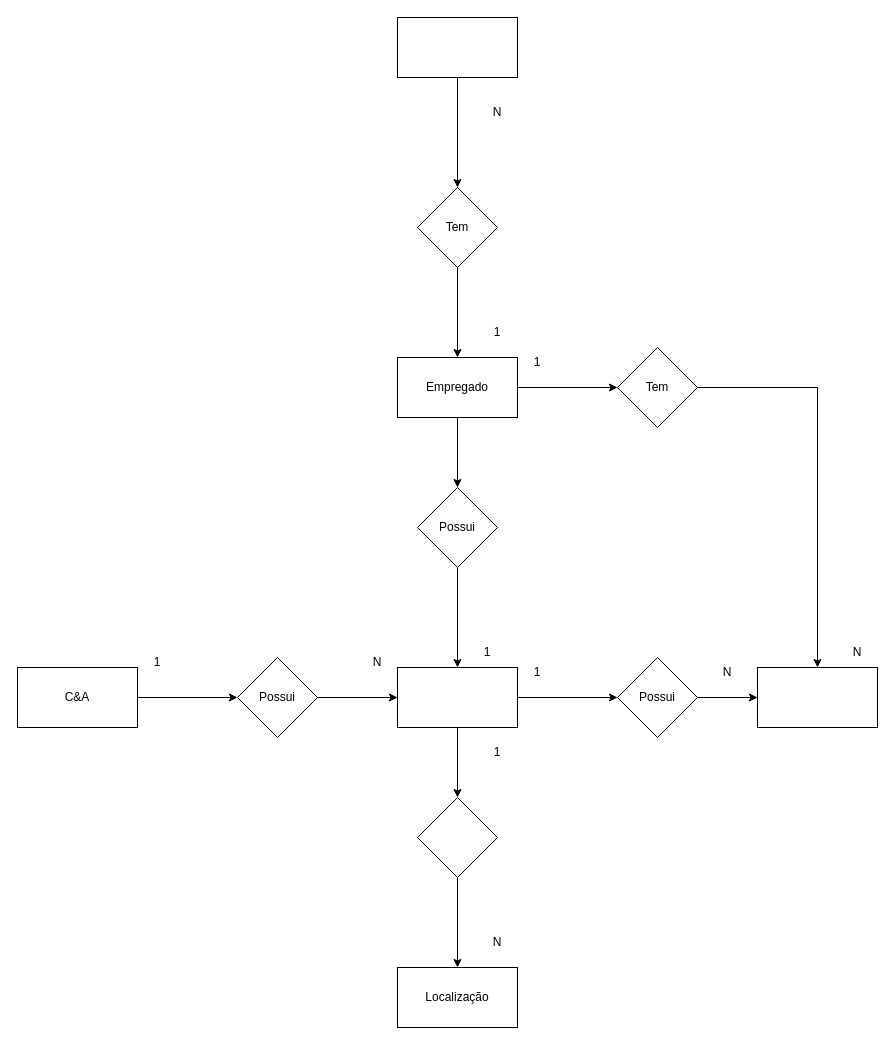
This 895x1045 diagram has some shape labels left out. The centre of each missing label's shape, as x and y in pixels:
"Controla" goes at (x=457, y=837).
"Departamento" goes at (x=457, y=697).
"Dependentes" goes at (x=457, y=47).
"Projetos" goes at (x=817, y=697).
